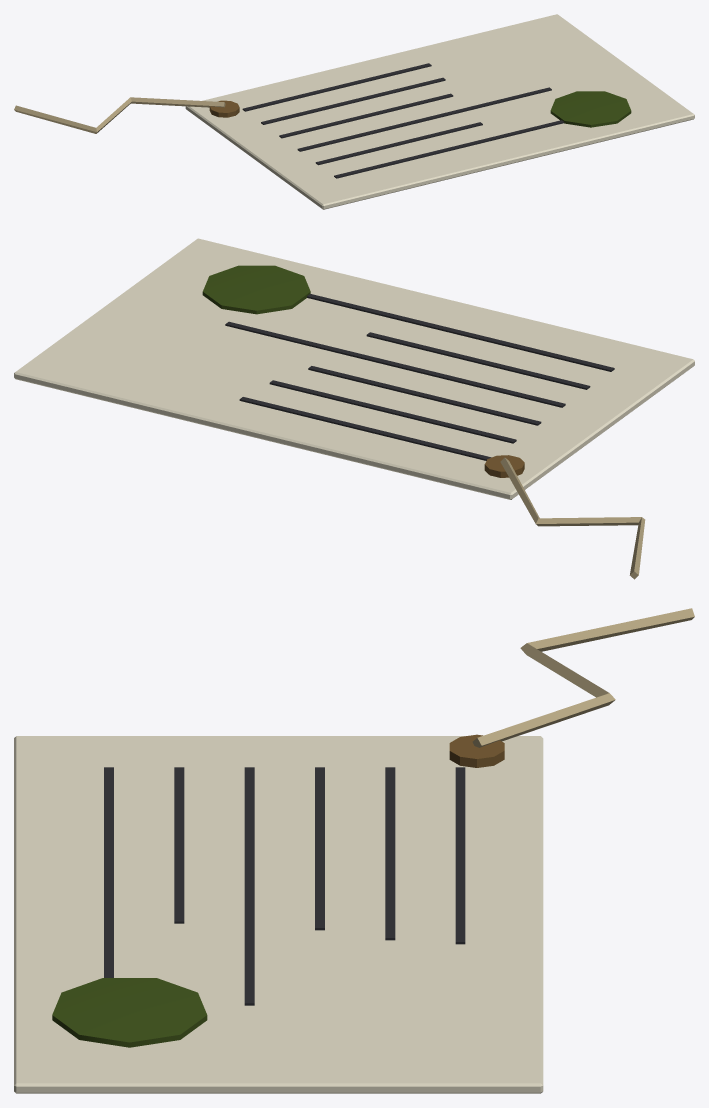
Rendered from e39_note.glb.
3 renders of one model, top to bottom at view 1: azimuth 30°, elevation 25°; view 2: azimuth 150°, elevation 25°; view 3: azimuth 270°, elevation 25°, orthographic. The views are drawn at different scales.
Visible parts, largest first — view 1: teil0, teil1, teil2, teil4, teil3; view 2: teil0, teil1, teil2, teil4, teil3; view 3: teil0, teil1, teil2, teil4, teil3.
Part boxes in pixels (x1,y1,x2,y2): teil0: (185,14,694,209); teil1: (242,63,564,178); teil2: (550,91,631,127); teil4: (14,97,225,133); teil3: (209,100,239,117); teil0: (14,238,694,499); teil1: (225,294,614,460); teil2: (202,265,310,314); teil4: (500,457,645,579); teil3: (484,455,524,477); teil0: (14,736,543,1093); teil1: (104,767,465,1005); teil2: (52,978,207,1047); teil4: (472,608,694,747); teil3: (449,734,504,767).
Size of the model in its own units: 0.1357 by 0.0038 by 0.0824.
